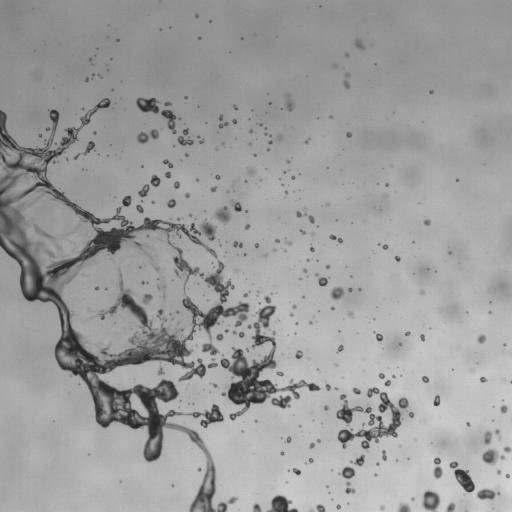droplet: (336, 387, 408, 450), (187, 404, 223, 428), (422, 490, 440, 511), (482, 448, 504, 465), (213, 206, 231, 224), (296, 209, 314, 223), (484, 429, 500, 444), (330, 286, 343, 300), (138, 184, 149, 197), (351, 455, 364, 466), (177, 136, 192, 145), (231, 200, 242, 211), (150, 174, 160, 186), (219, 115, 228, 128), (397, 502, 410, 511), (317, 276, 328, 286), (142, 294, 152, 305), (122, 195, 131, 206), (355, 39, 364, 49), (445, 502, 455, 511), (477, 334, 486, 343), (163, 159, 172, 167), (166, 199, 175, 207), (252, 503, 261, 511), (433, 395, 439, 406), (247, 167, 255, 175), (499, 405, 507, 413), (136, 204, 143, 213), (375, 333, 382, 341), (295, 350, 302, 358), (352, 387, 360, 394), (503, 446, 511, 453), (292, 468, 300, 475), (233, 241, 242, 247), (216, 333, 223, 340), (165, 171, 171, 178), (423, 219, 430, 225), (337, 345, 343, 352), (422, 376, 429, 382), (384, 380, 391, 386), (198, 137, 204, 143), (347, 311, 353, 317), (480, 376, 486, 382), (285, 437, 291, 443), (174, 181, 179, 188), (325, 383, 330, 390), (306, 458, 313, 463), (183, 129, 188, 135), (277, 134, 282, 140), (210, 186, 216, 191), (184, 192, 189, 198), (382, 244, 388, 249), (238, 332, 244, 337), (420, 334, 425, 340), (277, 371, 283, 376), (378, 373, 384, 378), (323, 405, 329, 410), (309, 442, 314, 448), (346, 132, 351, 137), (74, 154, 79, 159), (395, 256, 400, 261), (243, 292, 248, 297), (408, 412, 413, 417), (165, 101, 171, 105), (380, 505, 384, 511), (233, 105, 237, 110), (232, 119, 236, 124), (215, 175, 220, 179), (245, 224, 249, 229), (300, 230, 305, 234), (310, 246, 314, 251), (303, 268, 307, 273), (94, 286, 99, 290), (292, 304, 296, 309), (405, 331, 410, 335), (212, 383, 217, 387), (305, 139, 309, 143), (268, 140, 272, 144), (255, 243, 259, 247), (420, 290, 424, 294), (289, 313, 293, 317), (232, 330, 236, 334), (466, 422, 470, 426), (497, 470, 501, 474), (336, 505, 340, 509), (326, 264, 329, 269), (141, 281, 146, 284), (345, 53, 348, 57), (429, 90, 433, 93), (275, 239, 279, 242), (308, 321, 312, 324), (280, 452, 284, 455), (411, 497, 414, 501), (195, 14, 198, 17), (85, 78, 88, 81), (249, 130, 252, 133), (185, 153, 188, 156), (196, 178, 199, 181), (385, 183, 388, 186), (151, 200, 154, 203), (264, 254, 267, 257), (348, 288, 351, 291), (225, 329, 228, 332), (392, 375, 395, 378), (317, 439, 320, 442), (198, 468, 201, 471), (506, 474, 509, 477), (177, 218, 181, 220), (198, 36, 200, 39), (98, 75, 101, 77), (287, 160, 289, 163), (292, 176, 294, 179), (285, 191, 287, 194), (326, 203, 329, 205), (331, 307, 334, 309), (87, 308, 90, 310), (488, 311, 491, 313), (376, 463, 379, 465), (330, 116, 332, 118), (259, 124, 261, 126), (266, 133, 268, 135), (39, 134, 41, 136), (189, 214, 191, 216), (307, 259, 309, 261), (87, 318, 89, 320), (295, 322, 297, 324), (335, 387, 337, 389)
ligament: (0, 101, 319, 511), (136, 97, 176, 133), (31, 221, 61, 250), (449, 461, 475, 493), (266, 494, 298, 511), (339, 466, 355, 493), (137, 129, 159, 143), (476, 488, 499, 499), (433, 457, 442, 478), (83, 141, 94, 154), (285, 94, 293, 111), (308, 504, 325, 511), (329, 235, 342, 243), (344, 72, 350, 88), (284, 239, 292, 245), (382, 450, 386, 460)
